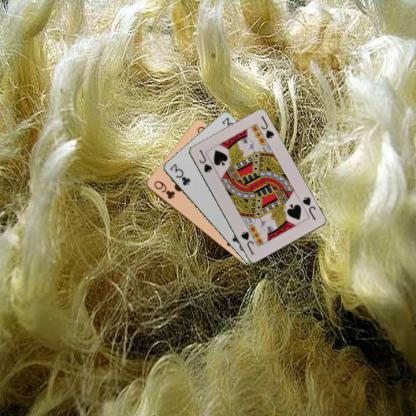3c: (167, 161, 191, 187)
9c: (152, 178, 176, 200)
Js: (299, 194, 317, 221), (197, 146, 214, 174)
